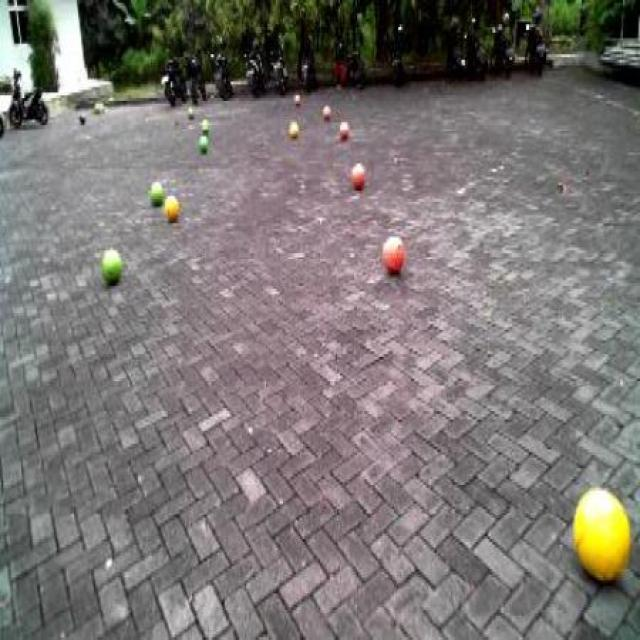buoy: (561, 466, 639, 602), (374, 216, 414, 282), (97, 232, 131, 294), (138, 168, 168, 210), (346, 149, 371, 197), (158, 188, 186, 229), (281, 112, 306, 144), (334, 112, 356, 144), (193, 134, 214, 160), (317, 96, 336, 122), (198, 108, 214, 132)
